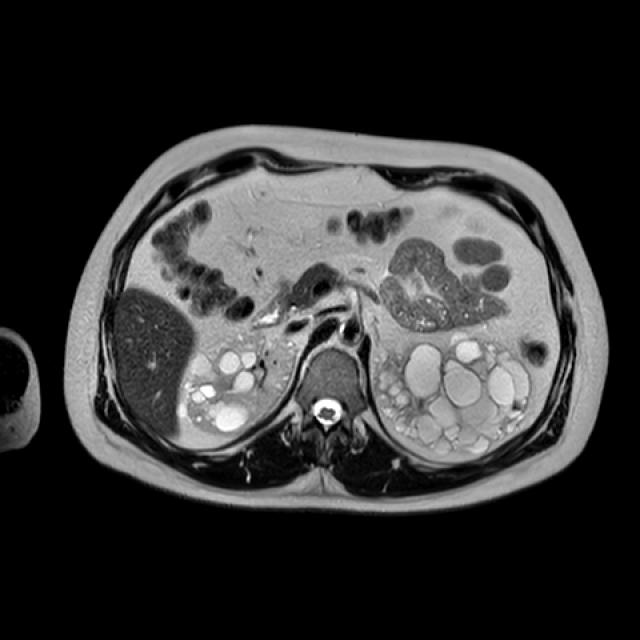sag: (180, 329, 298, 435)
sol: (372, 326, 530, 454)
